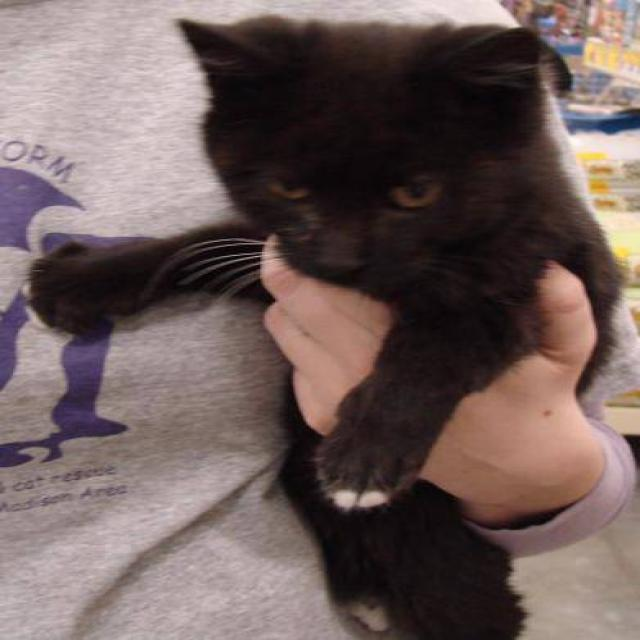cat: (23, 11, 630, 638)
